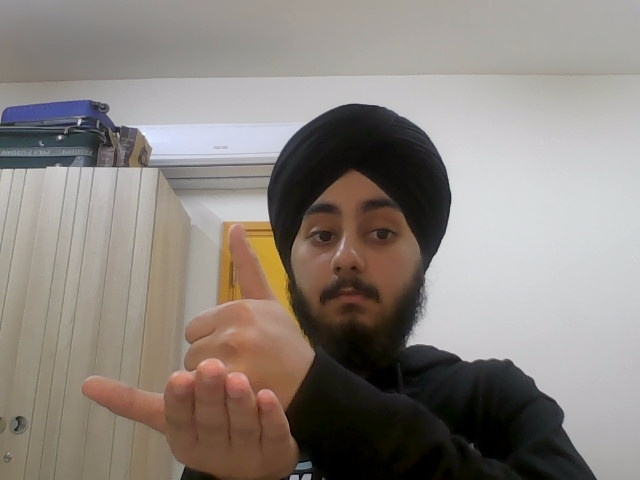Help: (81, 221, 313, 470)
